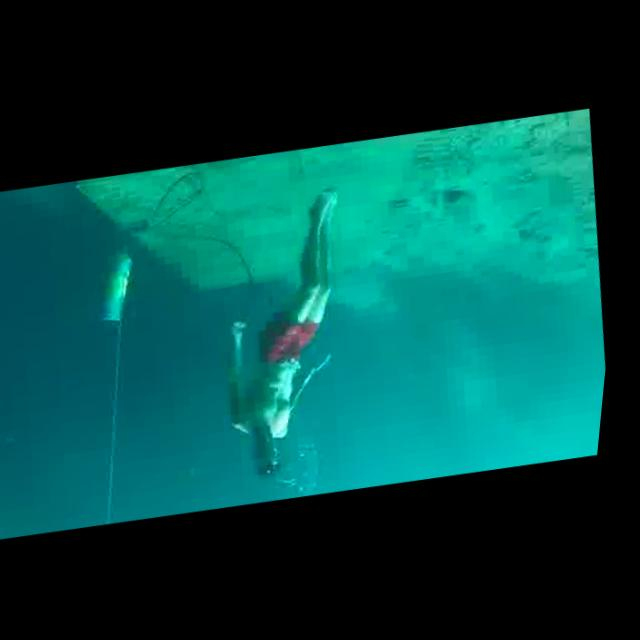human: (191, 182, 389, 486)
